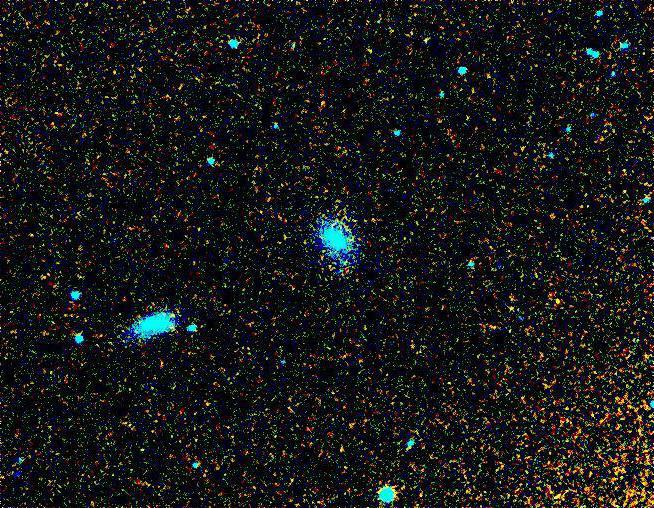star: (496, 294, 526, 324)
